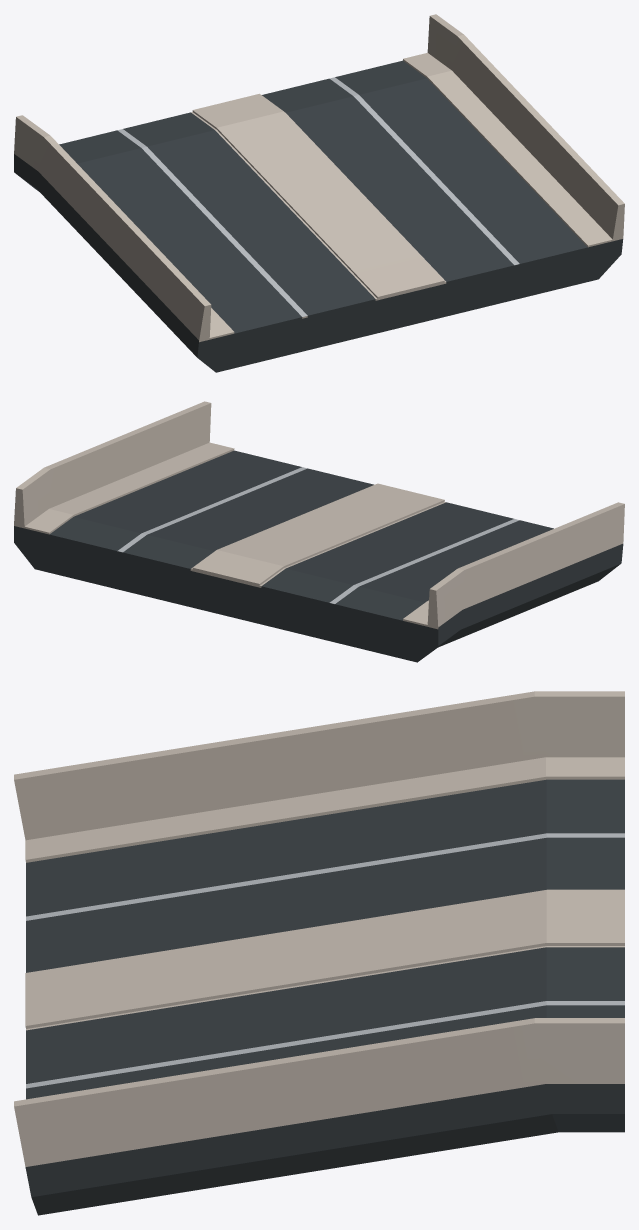
Rendered from SM_brige_016.glb.
3 renders of one model, top to bottom at view 1: azimuth 30°, elevation 25°; view 2: azimuth 150°, elevation 25°; view 3: azimuth 270°, elevation 25°, orthographic. The views are drawn at different scales.
Parts seen in each view (by area): view 1: SM_brige_016; view 2: SM_brige_016; view 3: SM_brige_016.
Part boxes in pixels (x1=…): SM_brige_016: x1=14, y1=14, x2=624, y2=372; SM_brige_016: x1=14, y1=401, x2=624, y2=662; SM_brige_016: x1=14, y1=691, x2=624, y2=1215.
Bounding box in the file's own units: 12 × 3.46 × 9.25.
Materials: 1 (1 with a texture image).
